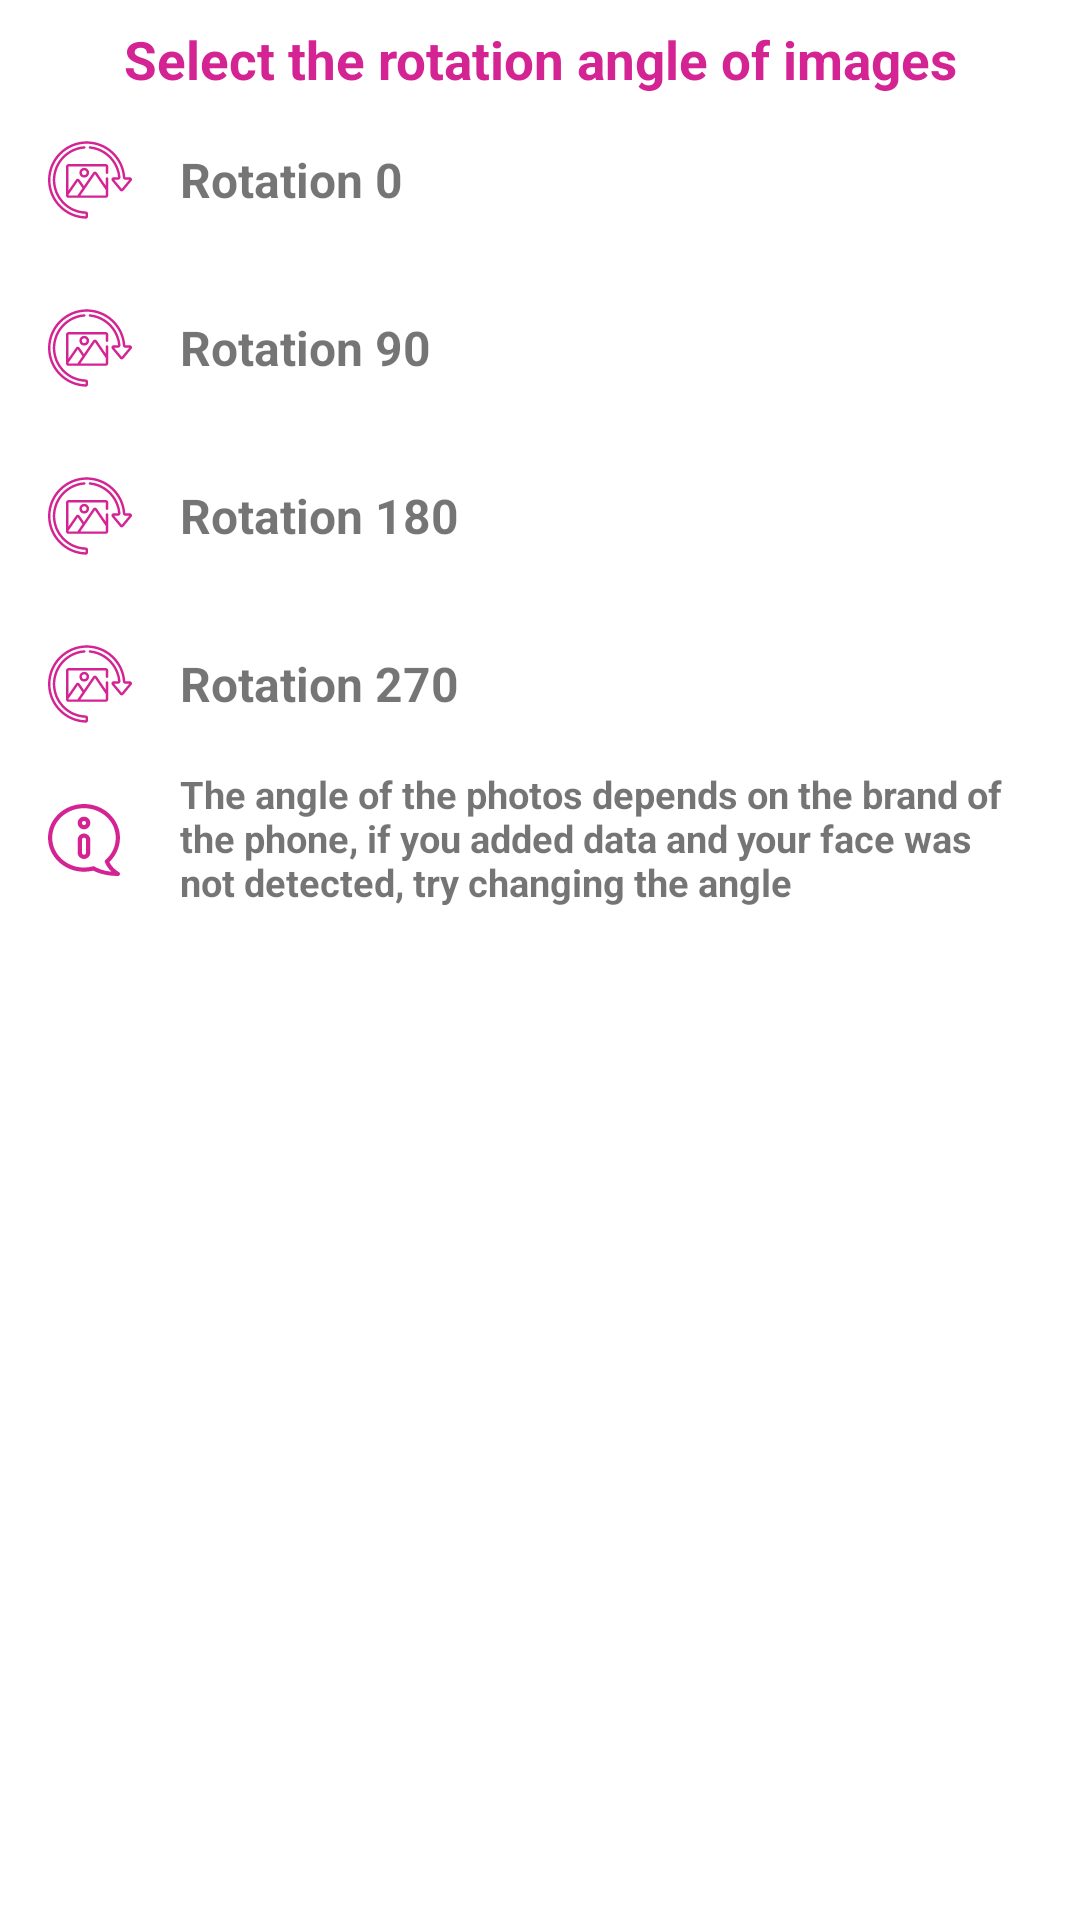

Icon bounding boxes for this 1080 × 1920 phone screenshot, format (x1, y1, x2, y2):
information: (48, 804, 120, 876)
